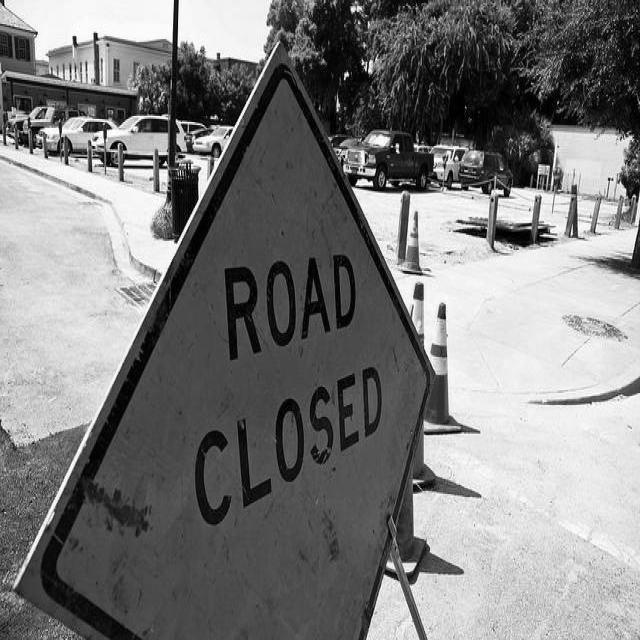vehicle: (343, 128, 435, 192), (91, 114, 187, 166), (43, 118, 118, 157), (459, 149, 513, 196), (429, 145, 470, 191), (30, 107, 80, 137), (6, 105, 49, 139), (193, 127, 235, 158), (335, 135, 366, 169), (186, 127, 214, 153), (328, 134, 346, 162), (179, 121, 207, 133)
